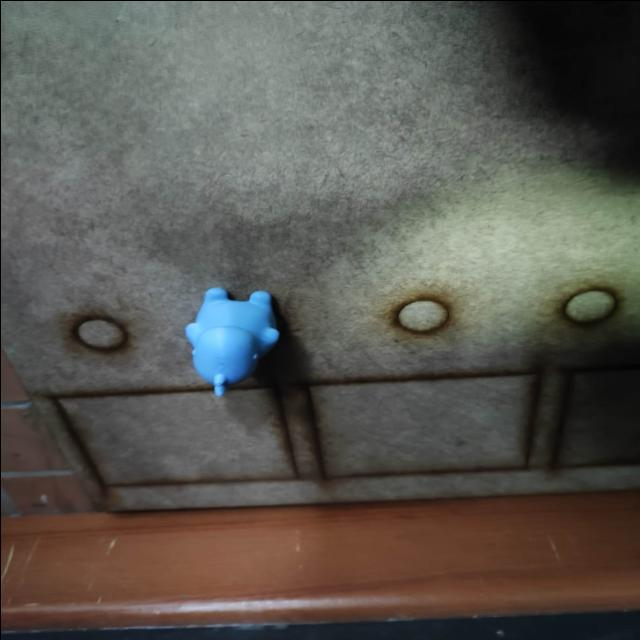DINO: (172, 277, 298, 404)
